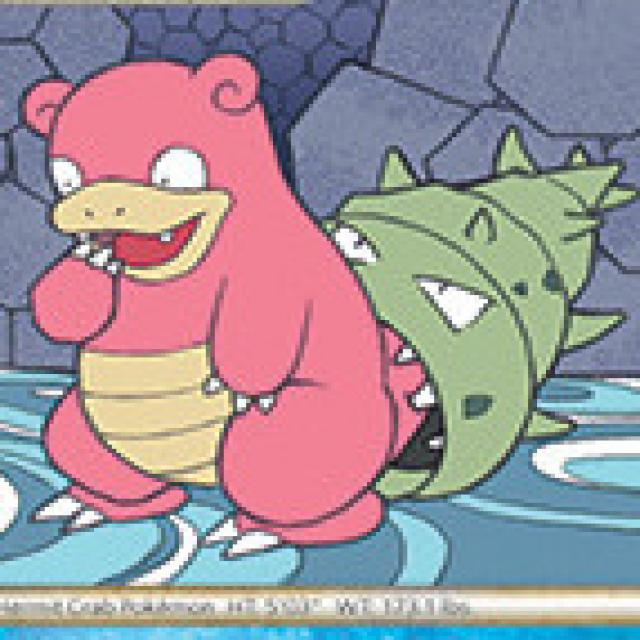Slowbro: (11, 67, 512, 533)
